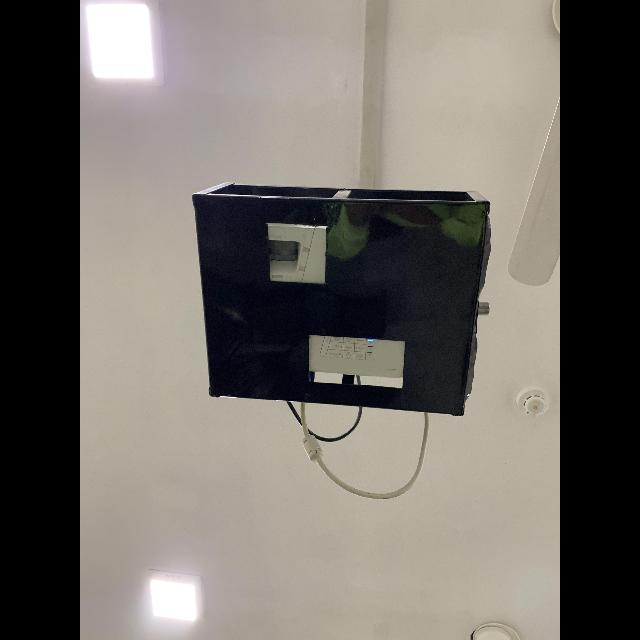Projector: (191, 181, 490, 416)
